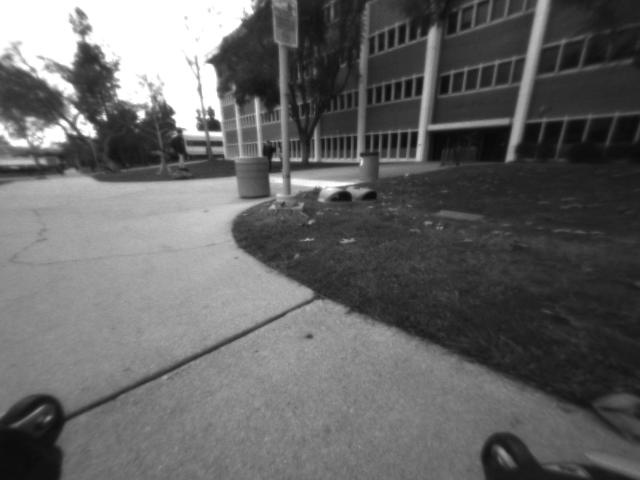trashcan: (238, 159, 274, 201), (360, 151, 376, 183)
